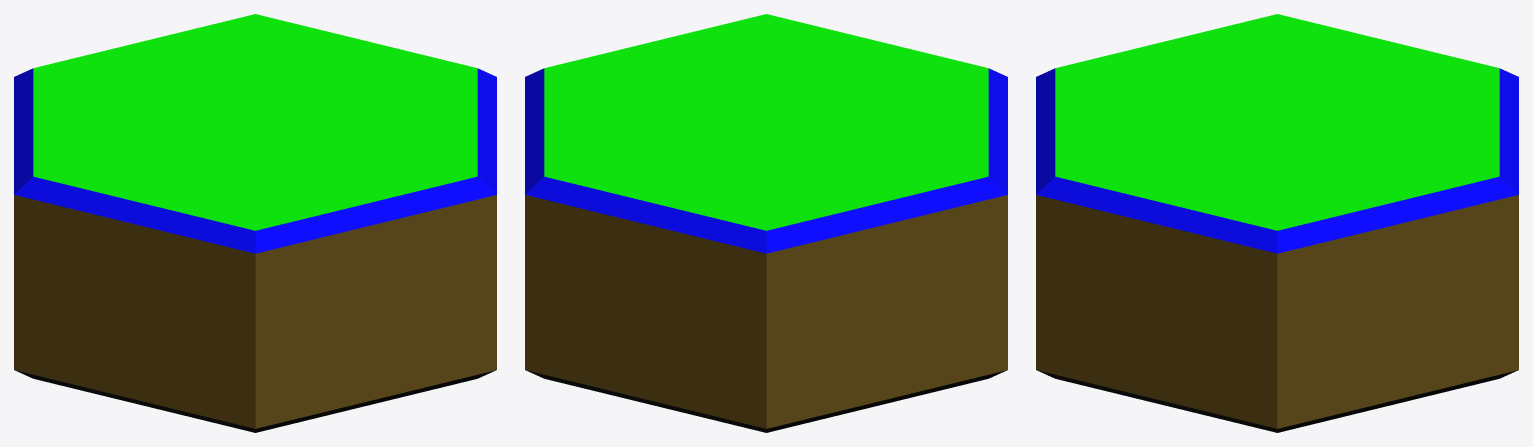
Rendered from Hex(h_40).fbx.
3 views of the same model, side by side, from view 1: azimuth 30°, elevation 25°; view 2: azimuth 150°, elevation 25°; view 3: azimuth 270°, elevation 25° (orthographic).
Parts seen in each view (by area): view 1: Hex; view 2: Hex; view 3: Hex.
Boxes of the visible parts, <box> form: Hex: <box>14,14,496,432</box>; Hex: <box>525,14,1007,432</box>; Hex: <box>1036,14,1518,432</box>.
Size of the model in its own units: 100 by 40 by 86.6.
